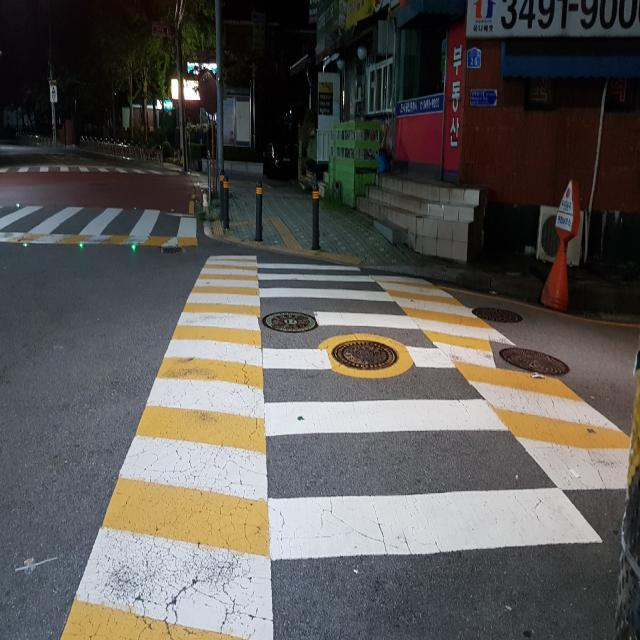횡단보도: (258, 264, 602, 560), (0, 203, 202, 250), (0, 164, 164, 175)
